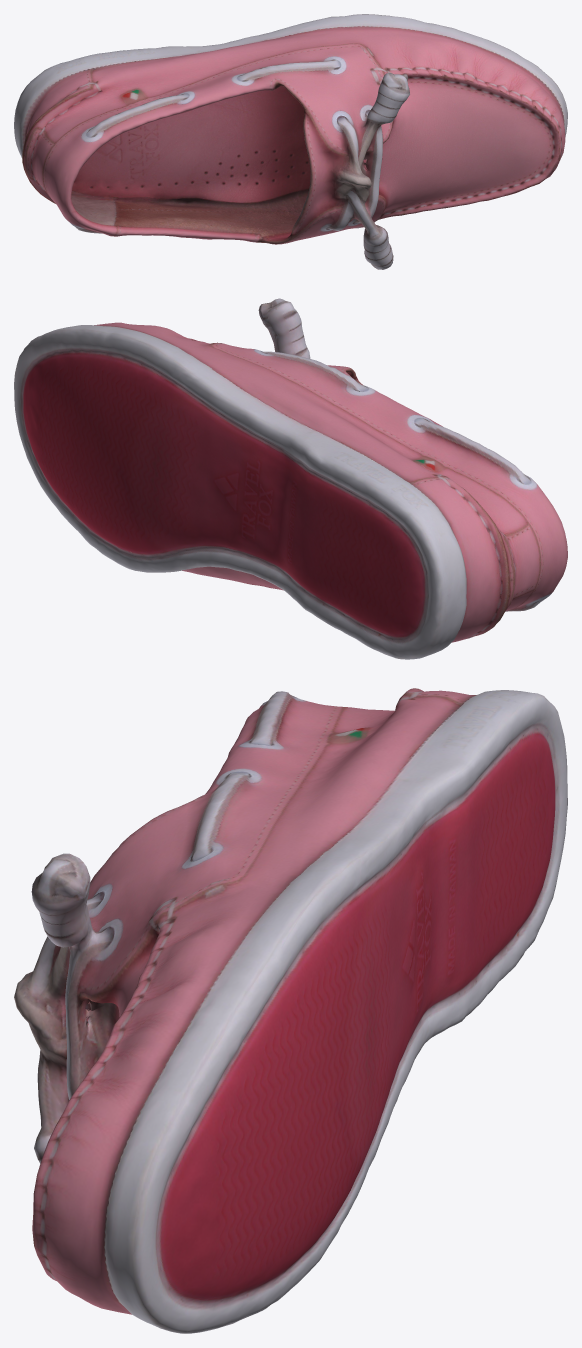
3 views of the same model, one above another, from view 1: azimuth 30°, elevation 25°; view 2: azimuth 150°, elevation 25°; view 3: azimuth 270°, elevation 25° (orthographic). The views are drawn at different scales.
Parts seen in each view (by area): view 1: mmGroup001; view 2: mmGroup001; view 3: mmGroup001.
Boxes of the visible parts, x1,y1,x2,y2 form: mmGroup001: (14,14,567,269); mmGroup001: (14,298,567,659); mmGroup001: (14,688,567,1333).
Bounding box in the file's own units: 358 × 145 × 184.
